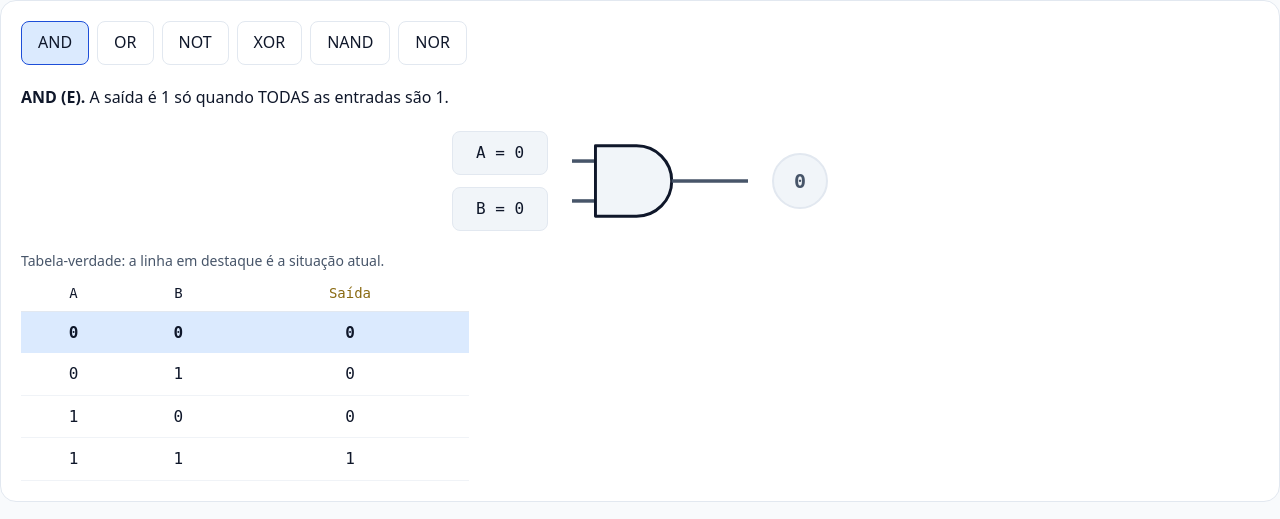
Test case: simulador de portas lógicas › AND só acende com as duas entradas ligadas
This screenshot has width=1280, height=519.
Expected: the picture named "Saída: 0" is shown, [772,153,828,209]
Click the button named "Entrada A: 0".
click(500, 153)  # box [452,131,548,175]
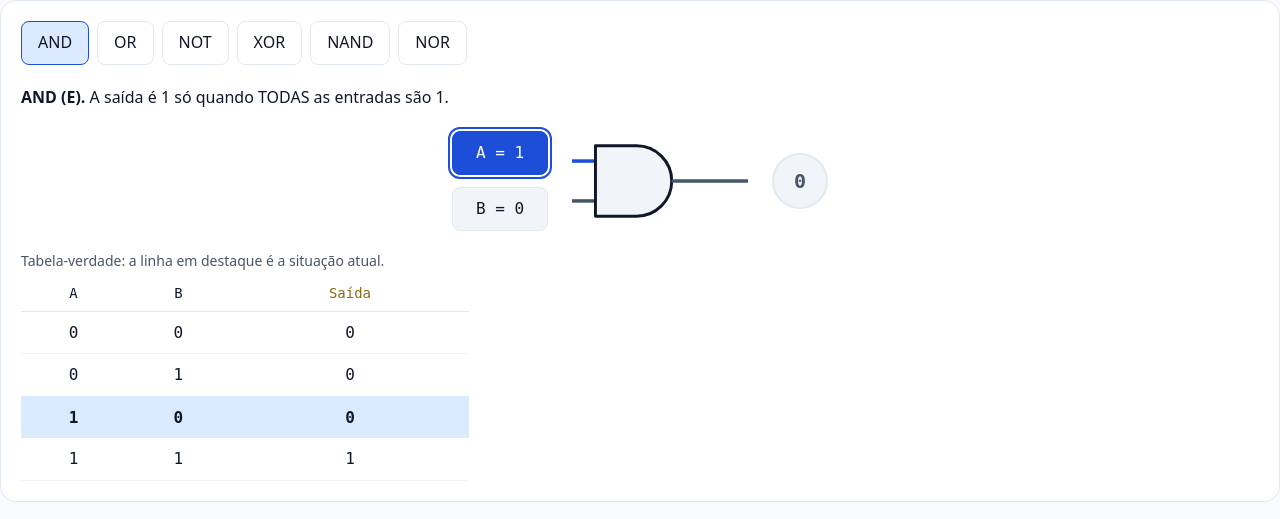
Expected: the picture named "Saída: 0" is shown, [772,153,828,209]
Click the button named "Entrada B: 0".
click(500, 209)  # box [452,187,548,231]
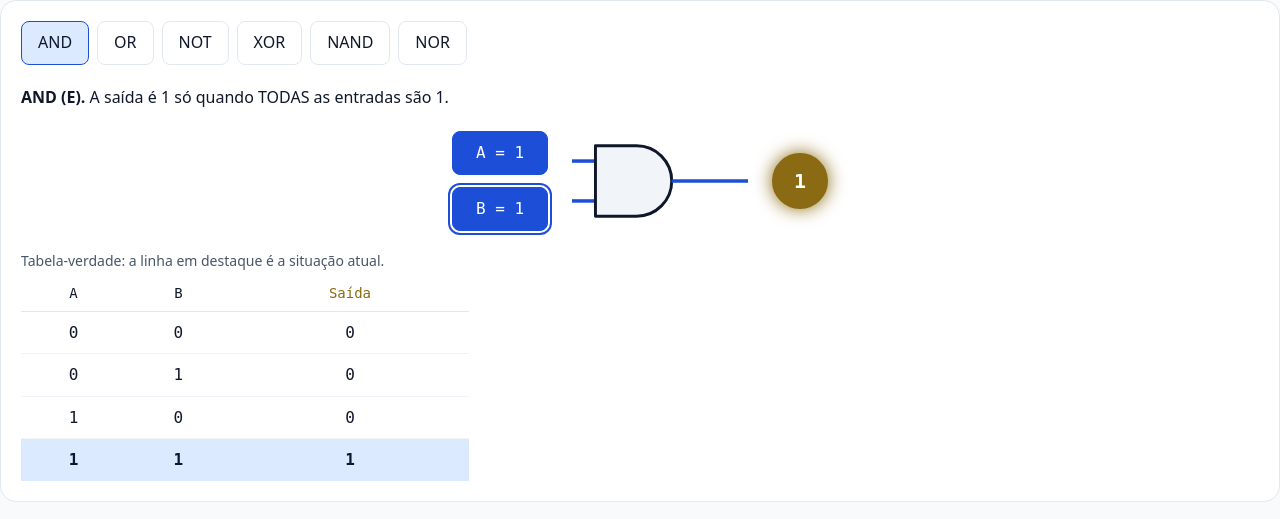
Result: the picture named "Saída: 1" is shown at [772,153,828,209]
